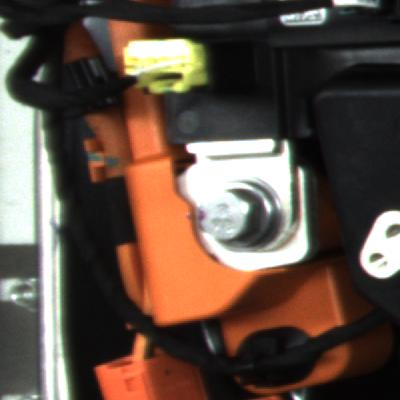nut_b: (197, 172, 288, 263)
